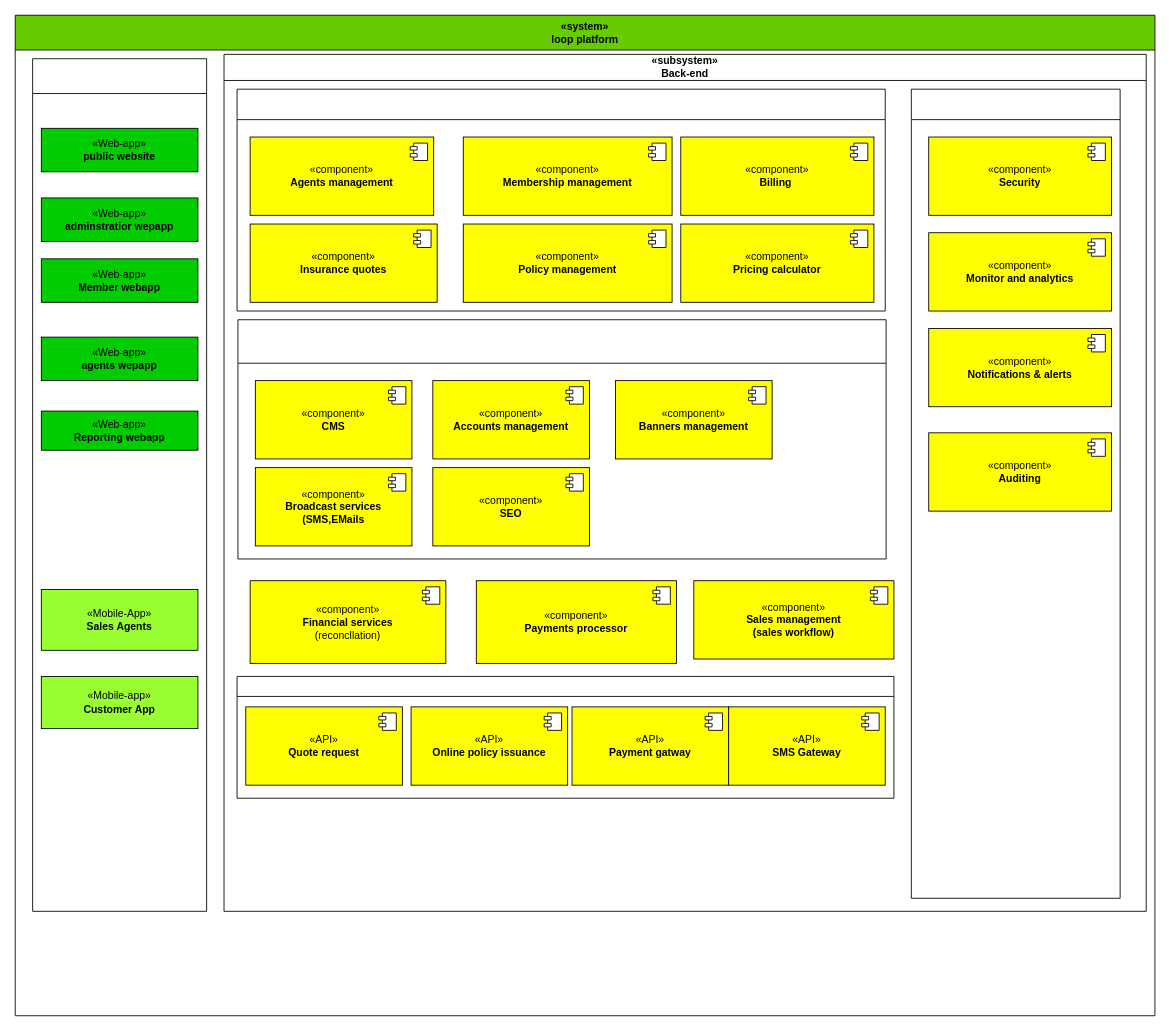
Some shapes in this 1170 by 1031 pixel diagram are drawn without their labels. Here are the shapes that lost their labels. From the top down, the box of each, then its label:
(236, 88, 885, 311): «subsystem» insurance services
(237, 319, 886, 559): «subsystem» Web contents management services
(32, 58, 207, 911): «subsystem» front-end
(910, 88, 1120, 898): «subsystem» Infrastructure services
(236, 676, 894, 798): Vertical Container
